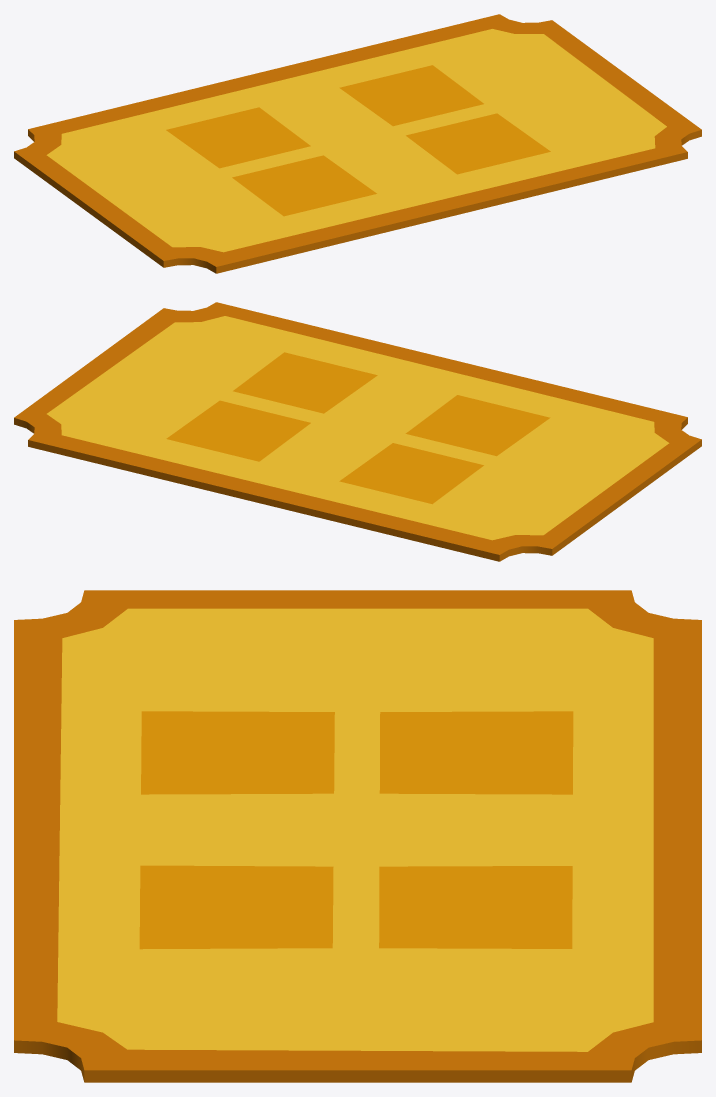
File: Ticket.fbx
3 views of the same model, one above another, from view 1: azimuth 30°, elevation 25°; view 2: azimuth 150°, elevation 25°; view 3: azimuth 270°, elevation 25° (orthographic). The views are drawn at different scales.
Visible parts, largest first — view 1: Ticket; view 2: Ticket; view 3: Ticket.
Part boxes in pixels (x1,y1,x2,y2): Ticket: (14, 14, 701, 273); Ticket: (14, 302, 701, 561); Ticket: (14, 590, 701, 1082).
Size of the model in its own units: 183 by 2.23 by 111.
